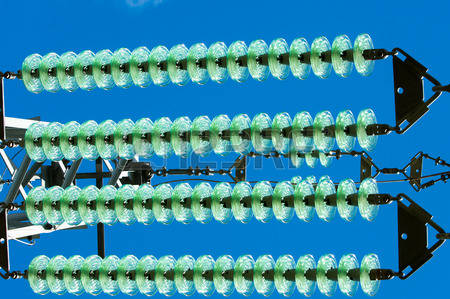isolator: (21, 32, 378, 163), (23, 177, 381, 296), (291, 145, 331, 168)
